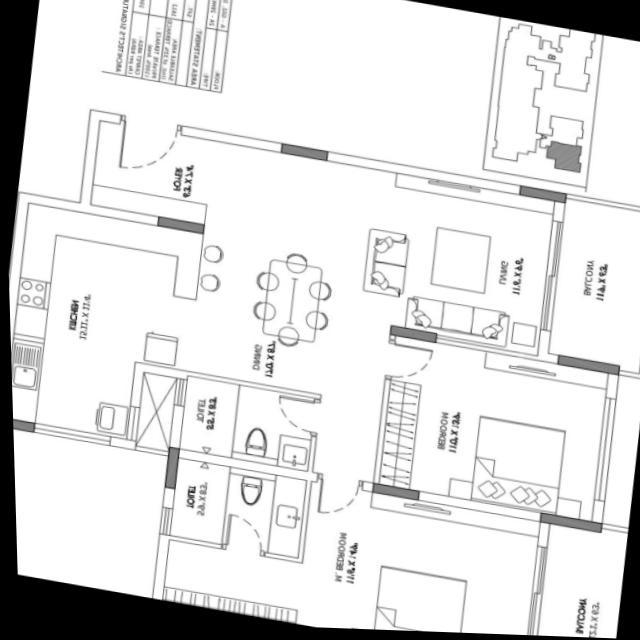Balcony-Sitout: (543, 187, 640, 377), (535, 519, 626, 639)
Bedroom: (365, 323, 620, 534)
Bedroom with Toilet: (147, 454, 549, 637)
Dining: (247, 249, 337, 357)
Enterance-Foyer: (106, 91, 192, 221)
Kitchen: (7, 196, 203, 460)
Living: (357, 161, 562, 358)
Toilet: (168, 372, 323, 480)
